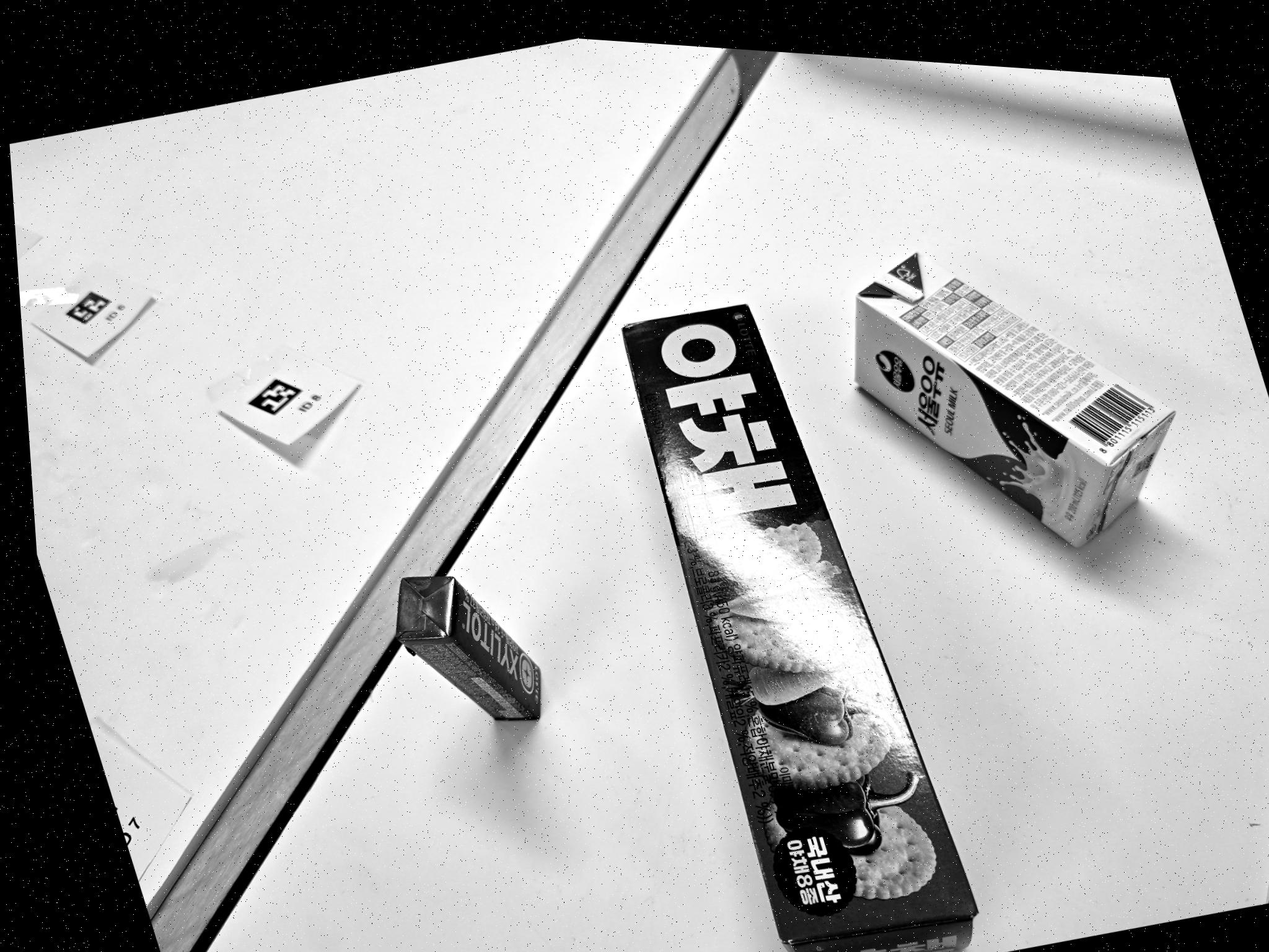cracker_vege: (623, 304, 978, 952)
gum_green: (396, 576, 541, 719)
milk_green: (855, 254, 1174, 546)
